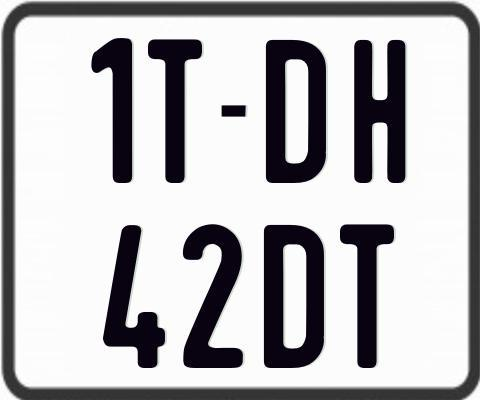1: (89, 37, 130, 183)
2: (183, 221, 249, 367)
4: (102, 223, 165, 370)
D: (265, 38, 331, 186), (261, 225, 325, 372)
H: (354, 38, 407, 182)
T: (338, 224, 396, 372), (145, 38, 202, 184)
